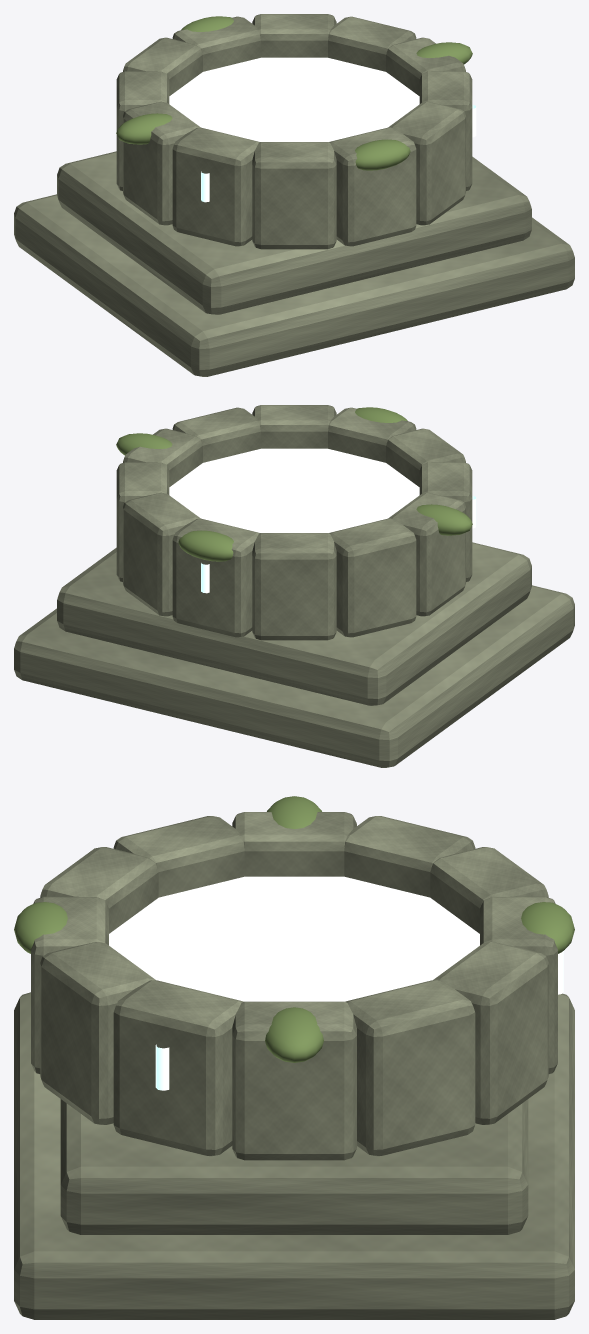
The model's file is evermere-moonwell.glb.
3 views of the same model, one above another, from view 1: azimuth 30°, elevation 25°; view 2: azimuth 150°, elevation 25°; view 3: azimuth 270°, elevation 25° (orthographic). The views are drawn at different scales.
Visible parts, largest first — view 1: Moonwell footing; view 2: Moonwell footing; view 3: Moonwell footing.
Boxes of the visible parts, <box> form: Moonwell footing: <box>14,14,574,376</box>; Moonwell footing: <box>14,405,574,767</box>; Moonwell footing: <box>14,796,574,1319</box>.
Size of the model in its own units: 2.1 by 0.98 by 1.8.
Materials: 3 (1 with a texture image).
